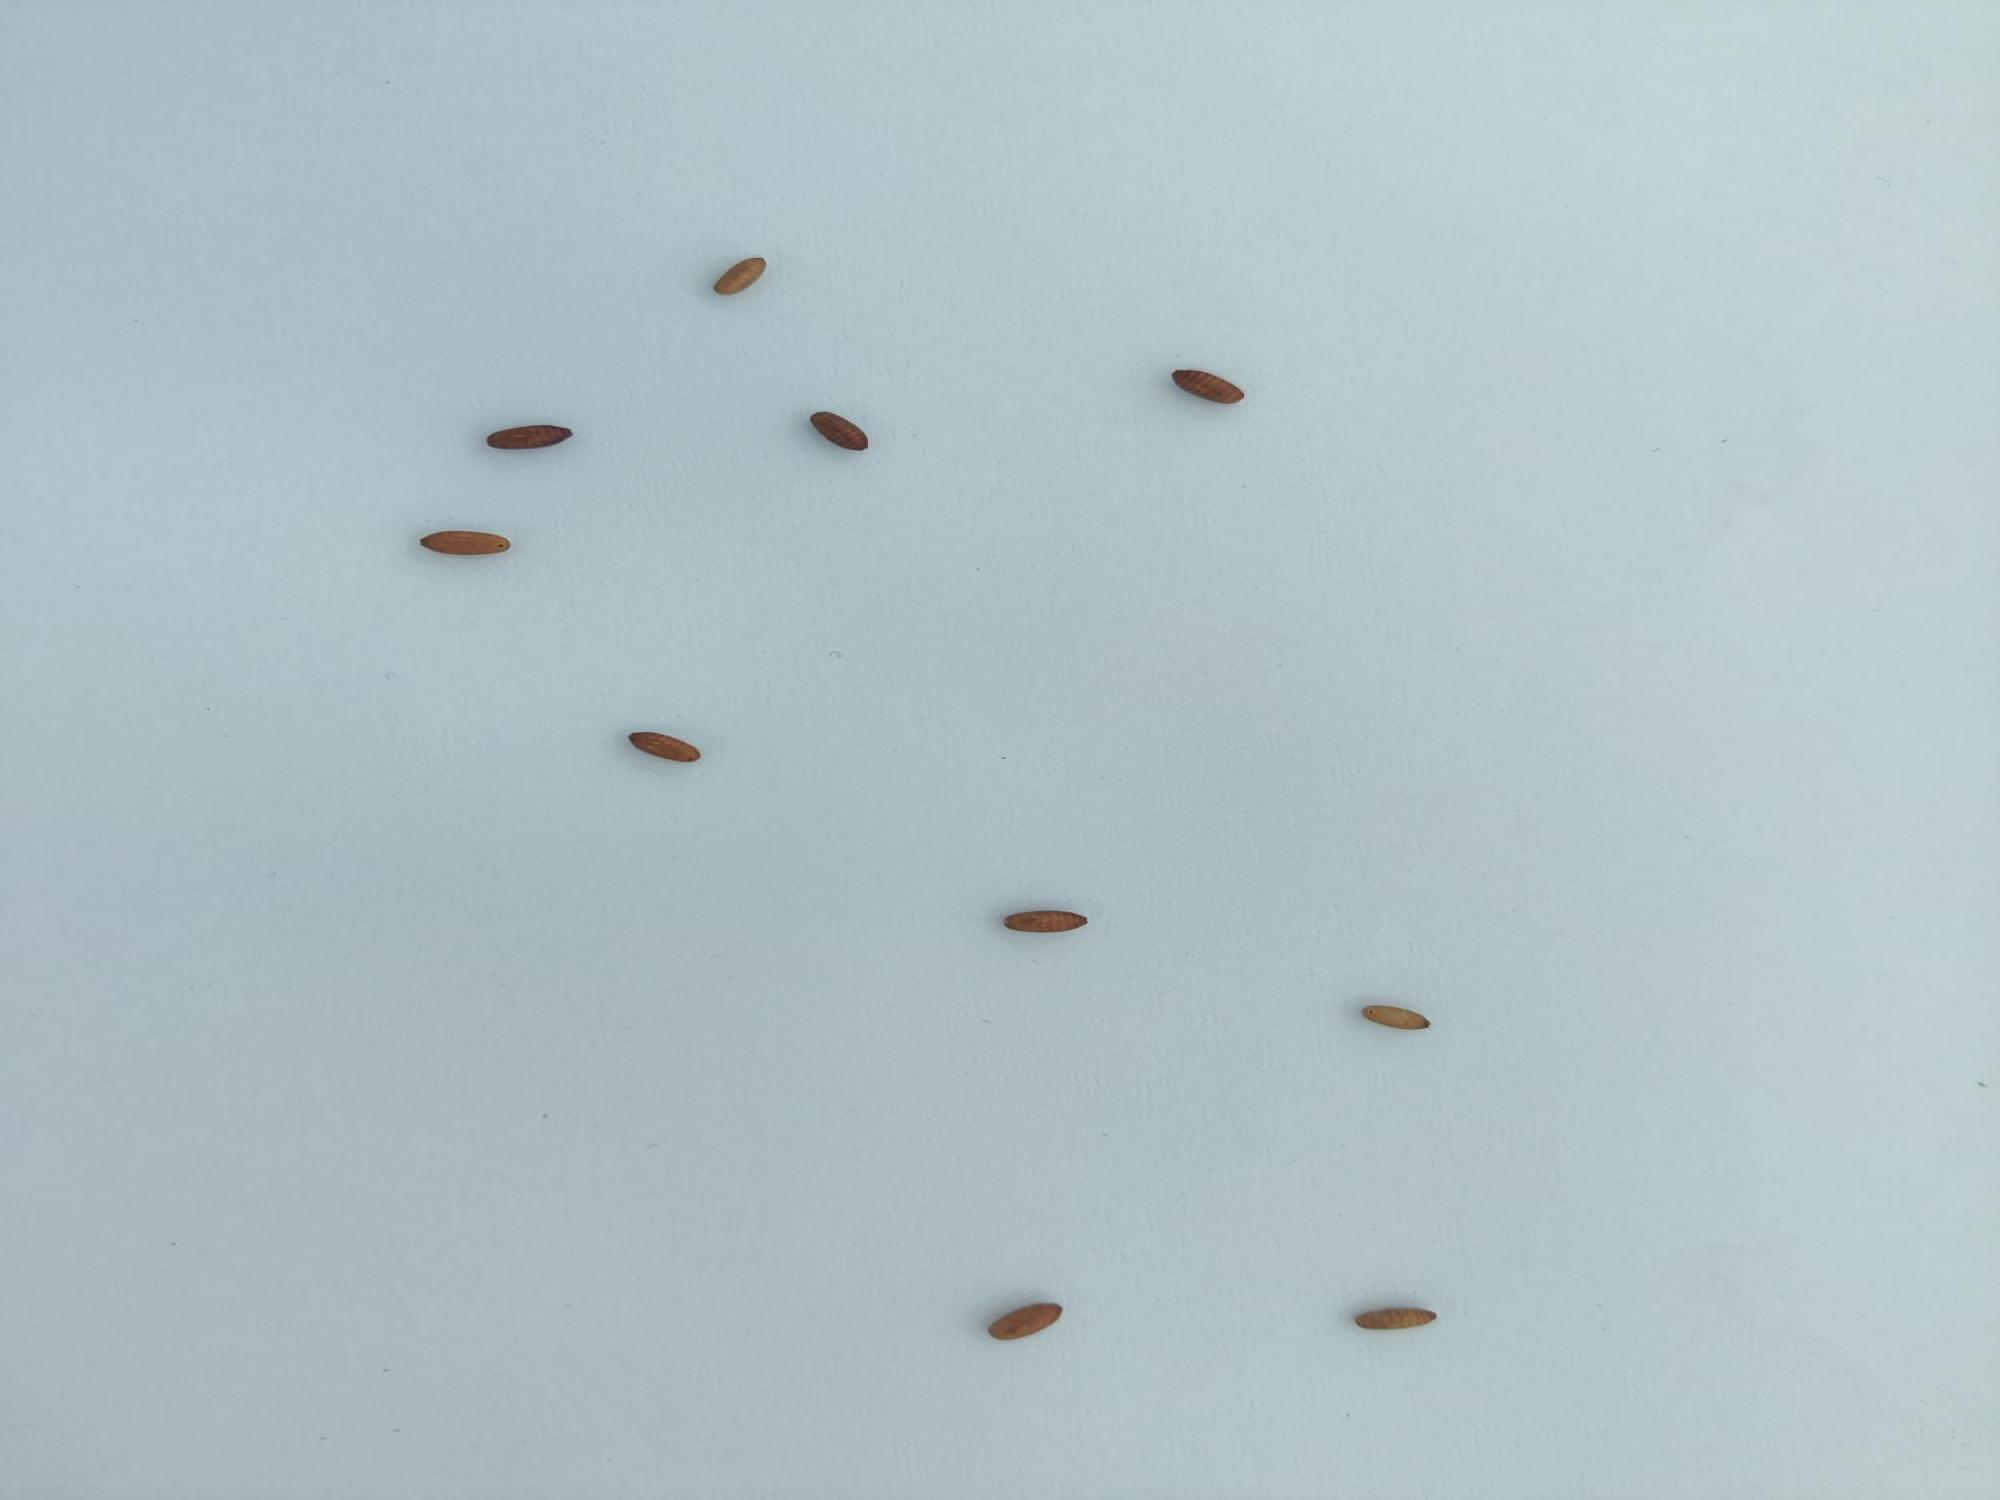pupae: (619, 712, 715, 775), (395, 520, 526, 566), (800, 407, 888, 457), (476, 419, 595, 455), (981, 1298, 1074, 1344), (1161, 366, 1257, 410), (702, 252, 780, 299), (1354, 999, 1443, 1037), (1350, 1301, 1447, 1333), (992, 908, 1094, 937)
